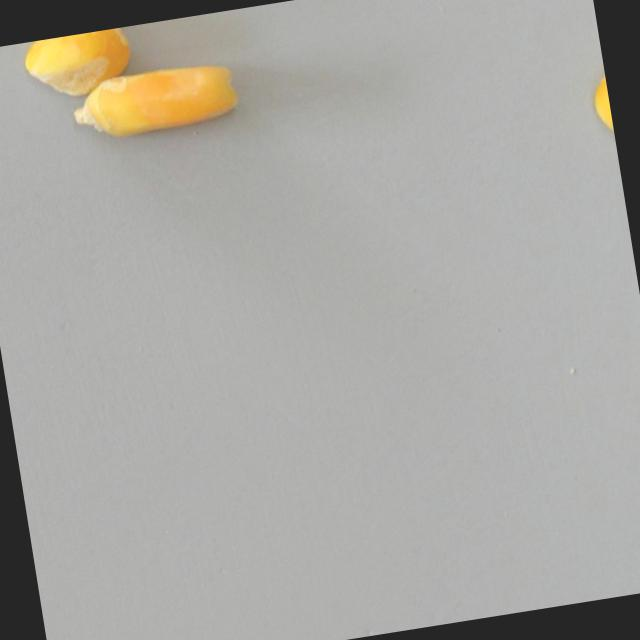entero: (68, 53, 249, 150)
no_canjicado: (583, 37, 618, 159)
pelicula: (19, 26, 137, 105)
